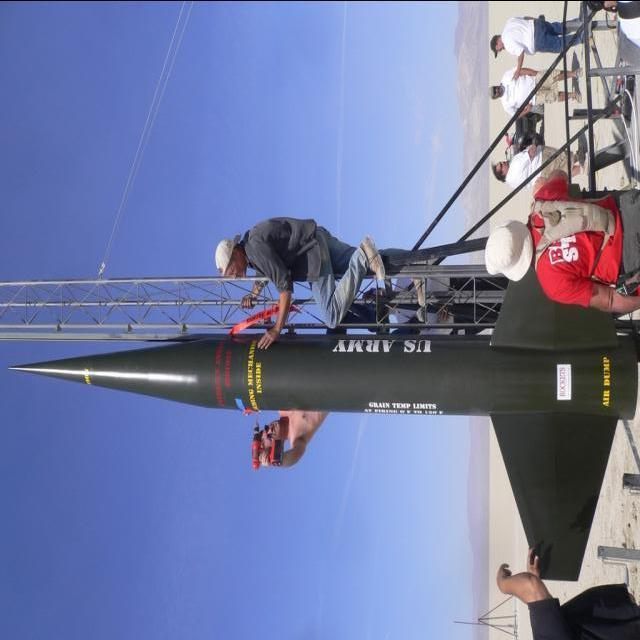Missile: (7, 322, 510, 415)
